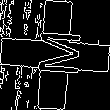M_W: (28, 30, 82, 80)
